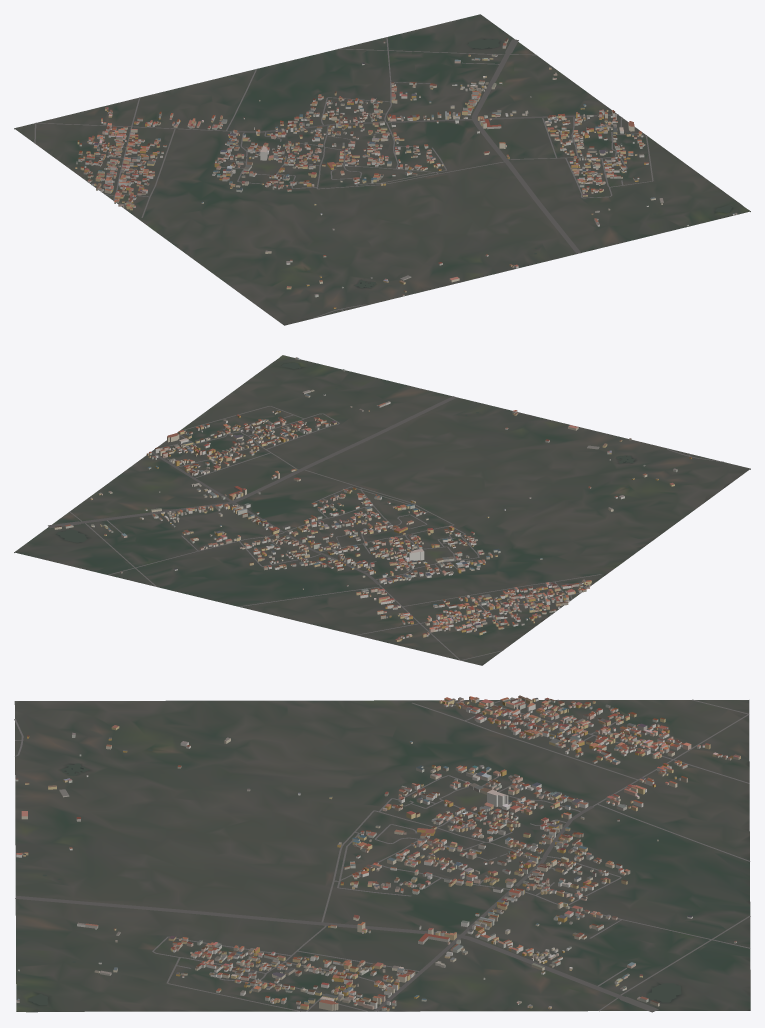
3 views of the same model, one above another, from view 1: azimuth 30°, elevation 25°; view 2: azimuth 150°, elevation 25°; view 3: azimuth 270°, elevation 25° (orthographic). The views are drawn at different scales.
Visible parts, largest first — view 1: ground, buildings, roads, water; view 2: ground, buildings, roads, water; view 3: ground, buildings, roads, water.
Boxes of the visible parts, x1,y1,x2,y2 form: ground: (14,14,750,325); buildings: (75,38,737,308); roads: (34,37,653,318); water: (306,39,744,287); ground: (14,355,750,665); buildings: (54,357,691,641); roads: (48,396,723,660); water: (56,359,634,542); ground: (14,700,750,1012); buildings: (15,695,740,1011); roads: (14,699,750,1012); water: (28,749,681,1011).
Bounding box in the file's own units: 1417 × 29.07 × 1407.
